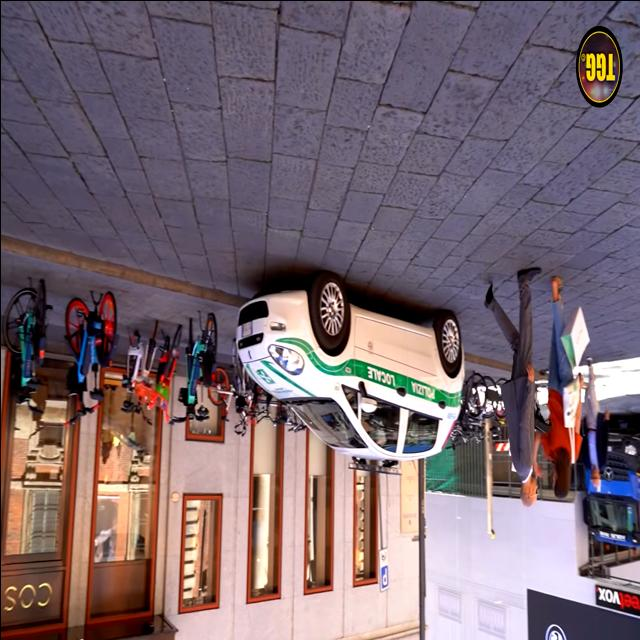emergency-vehicles: (214, 256, 482, 478)
